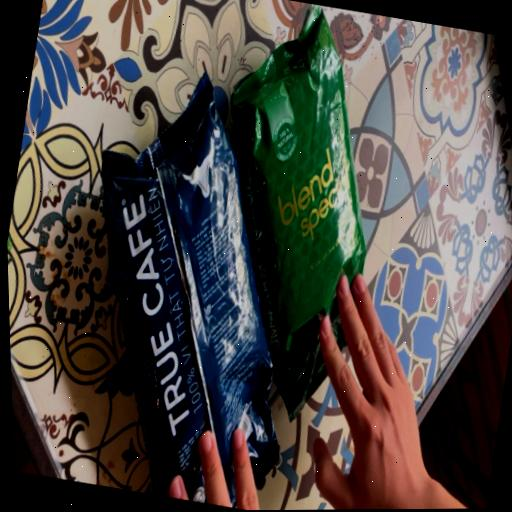cafe_hat: (101, 74, 277, 505)
cafe_xay: (230, 4, 365, 417)
